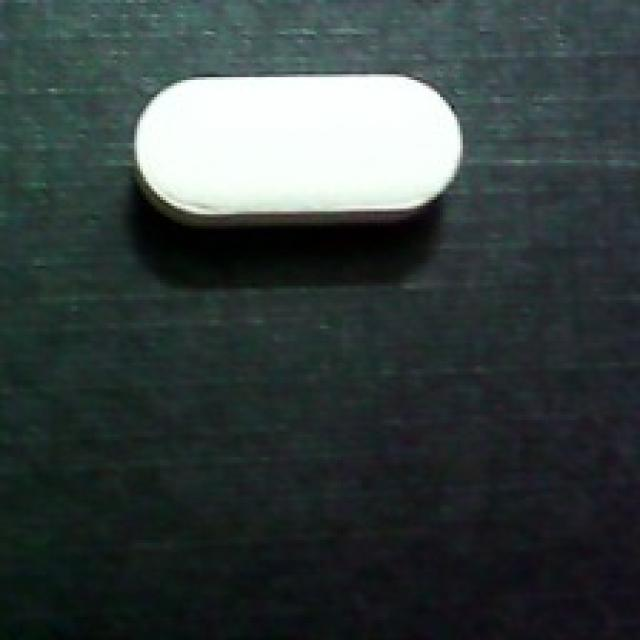no-defect: (123, 66, 469, 234)
